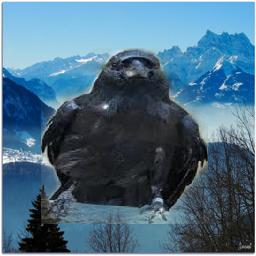Crow: (42, 48, 209, 224)
